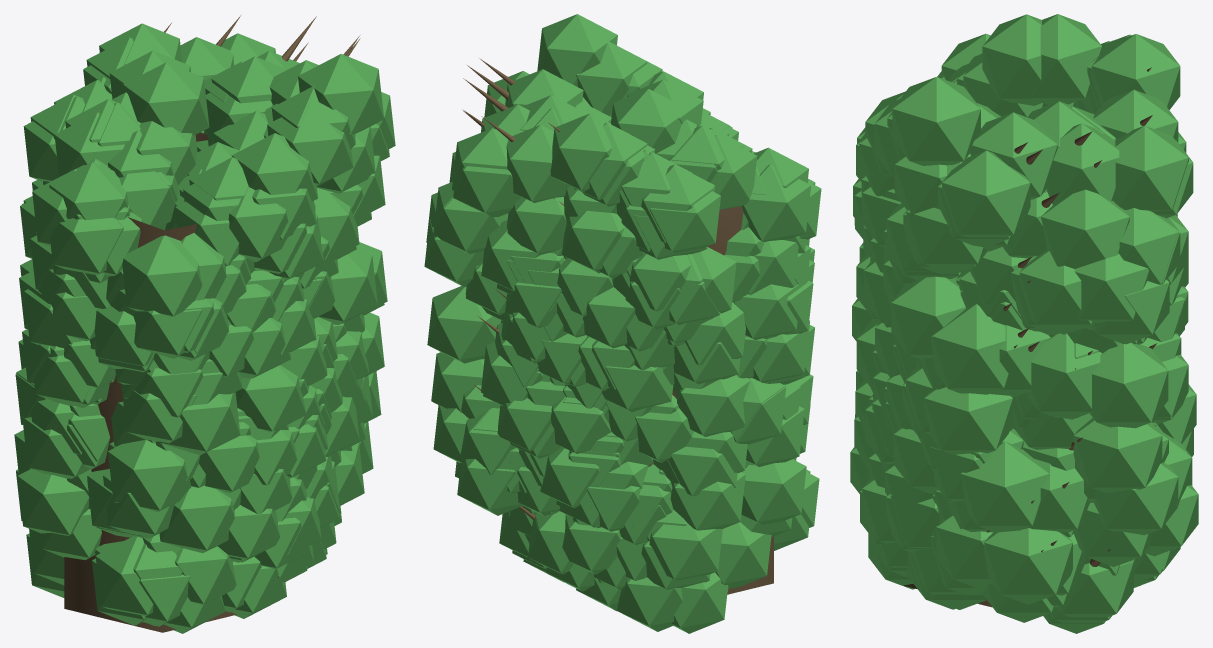
File: tree_var_4006.glb
3 renders of one model, left to right at view 1: azimuth 30°, elevation 25°; view 2: azimuth 150°, elevation 25°; view 3: azimuth 270°, elevation 25°, orthographic. The views are drawn at different scales.
Visible parts, largest first — view 1: tree_var_4006; view 2: tree_var_4006; view 3: tree_var_4006.
Part boxes in pixels (<box>): tree_var_4006: <box>14,15,395,633</box>; tree_var_4006: <box>424,14,821,633</box>; tree_var_4006: <box>850,14,1198,633</box>.
Bounding box in the file's own units: 3.6 × 5.38 × 2.85.
